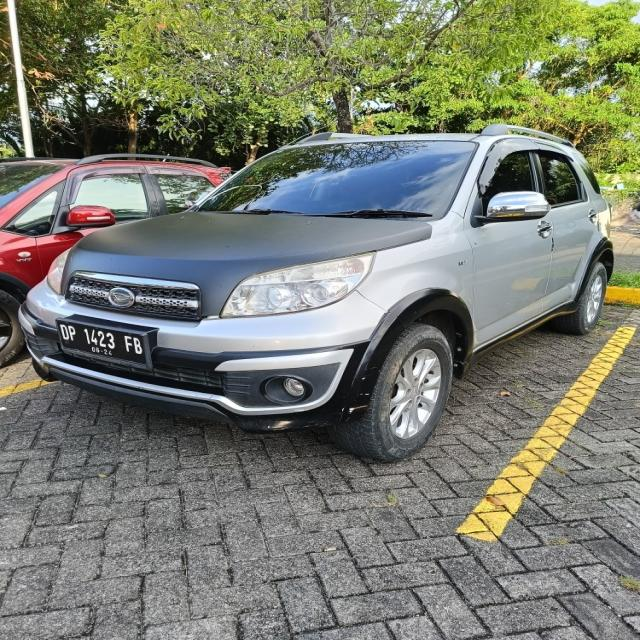plates: (47, 318, 156, 366)
